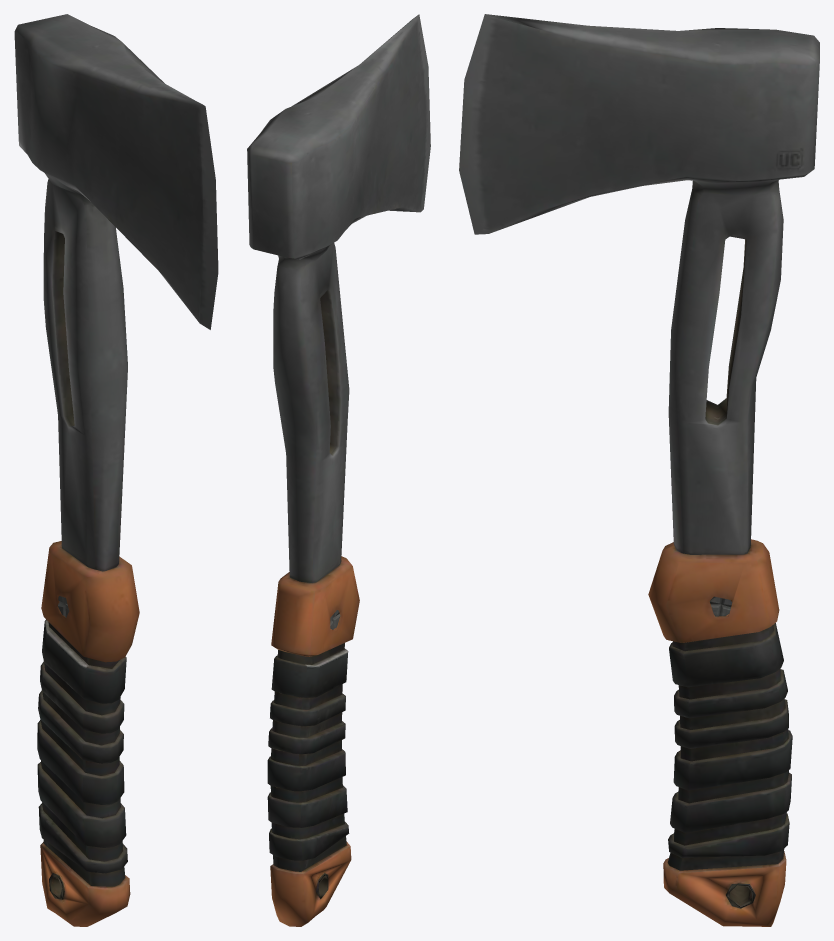
Rendered from hatchet.glb.
The picture shows the model from 3 angles, left to right: view 1: azimuth 30°, elevation 25°; view 2: azimuth 150°, elevation 25°; view 3: azimuth 270°, elevation 25°; orthographic projection. The views are drawn at different scales.
Parts seen in each view (by area): view 1: hatchet; view 2: hatchet; view 3: hatchet.
Part boxes in pixels (x1,y1,x2,y2): hatchet: [14, 14, 218, 926]; hatchet: [247, 14, 430, 926]; hatchet: [459, 14, 819, 926].
Bounding box in the file's own units: 0.0254 × 0.2881 × 0.1037.
Materials: 1 (1 with a texture image).
